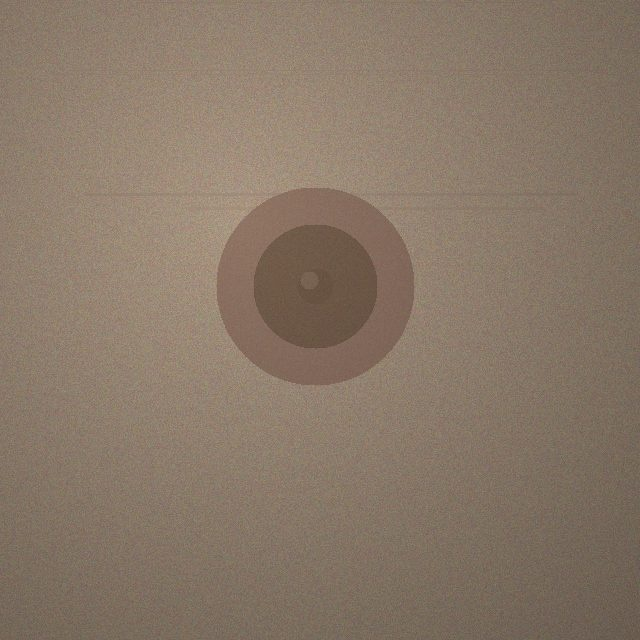good: (216, 187, 414, 385)
